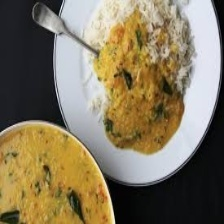rice: (76, 0, 204, 116)
